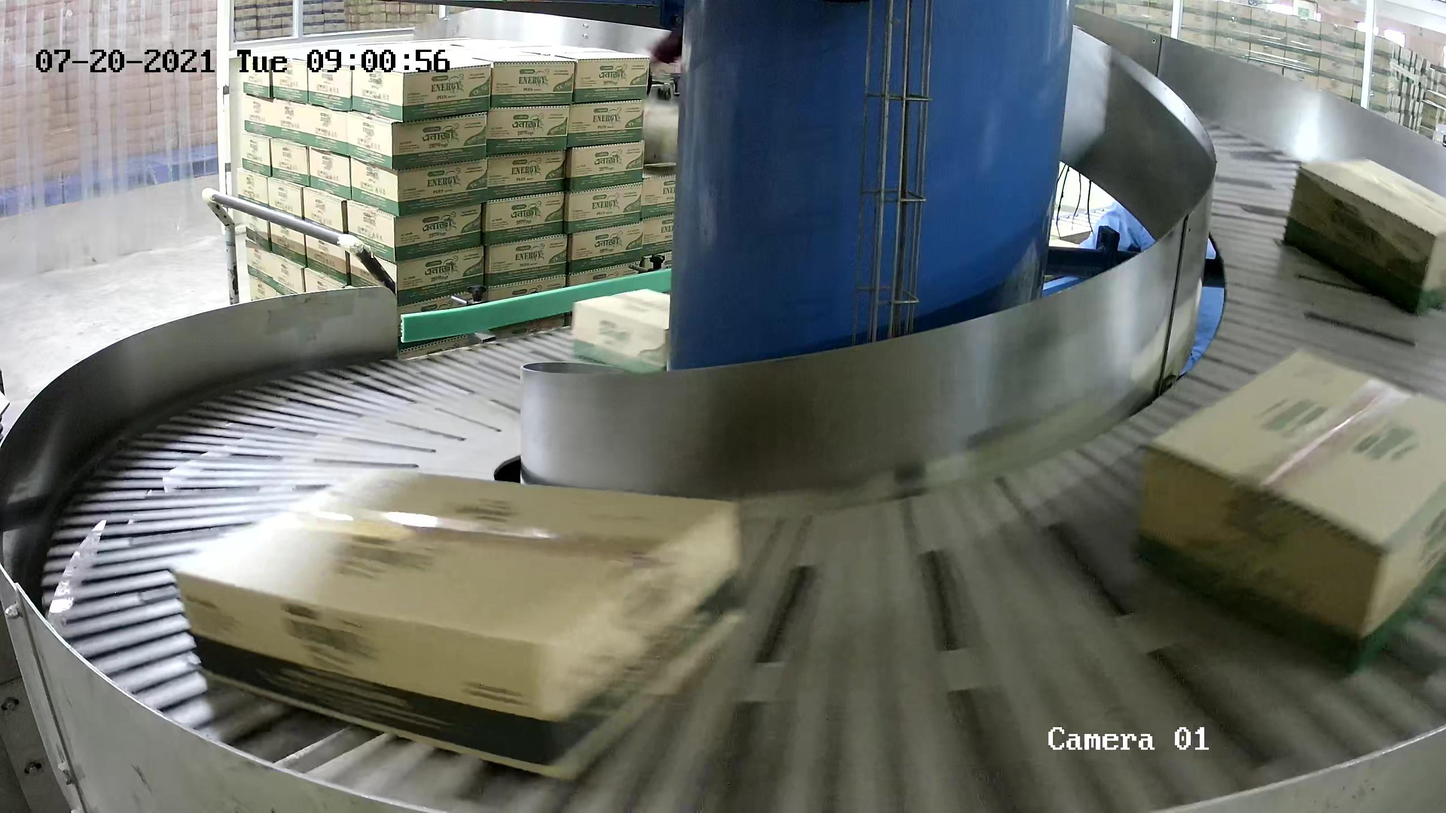Box: (166, 459, 754, 786), (1130, 343, 1446, 682), (1281, 156, 1446, 318), (569, 287, 670, 375)
